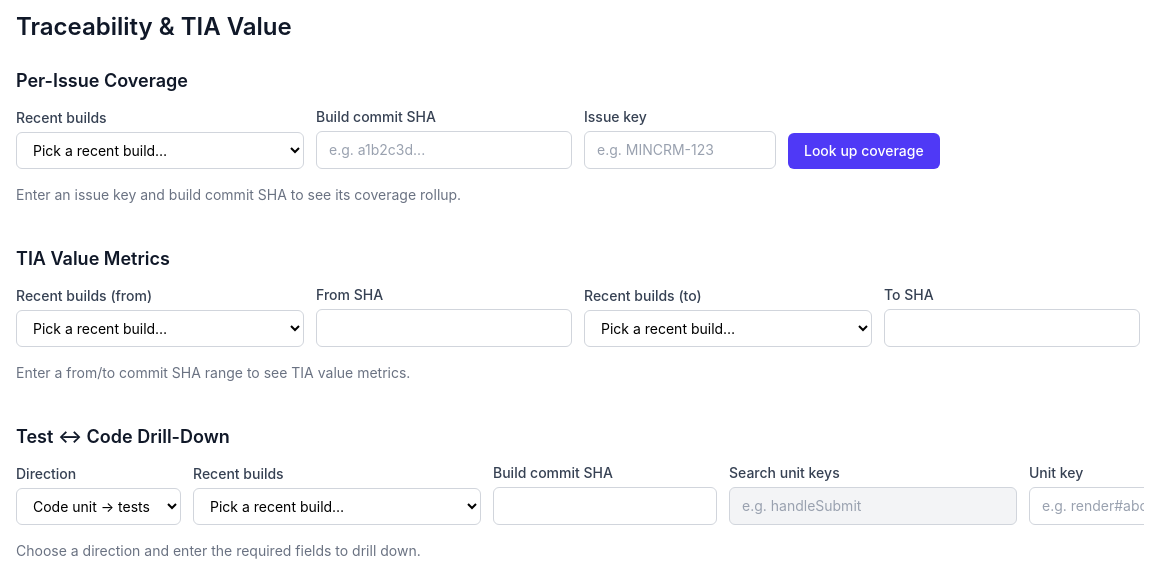
Scenario: TraceabilityPage — issue coverage › shows a loading state while the request is in flight
The width and height of the screenshot is (1156, 576).
In the field with test id "issue-key-input": {"x": 680, "y": 150} [584,131,776,169], type "MINCRM-1"
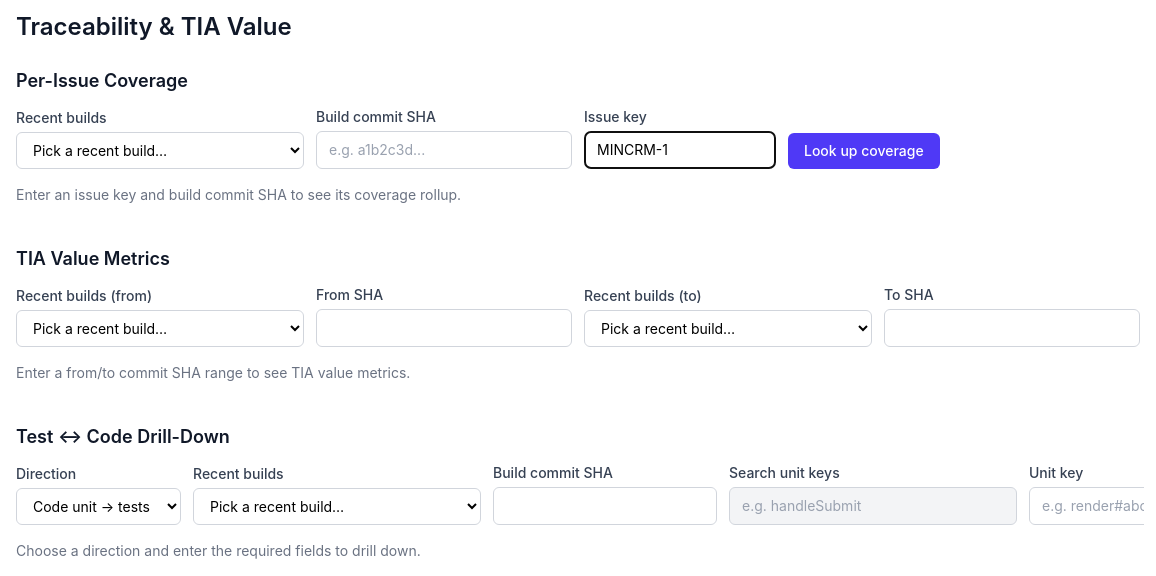
In the field with test id "issue-commit-sha-input": {"x": 444, "y": 150} [316,131,572,169], type "abc123"
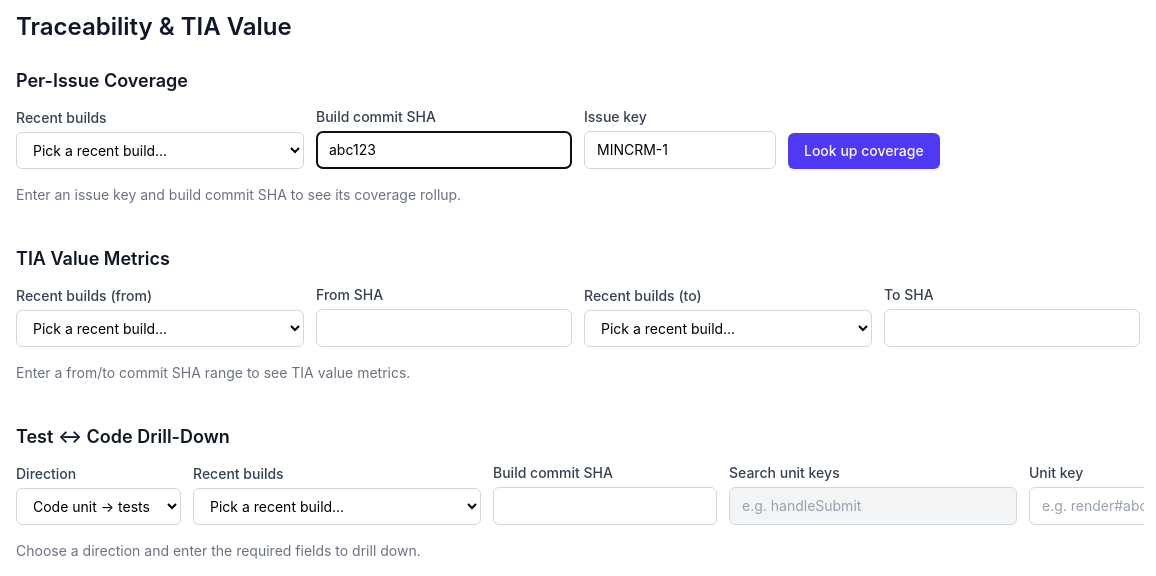
Click the button with test id "issue-coverage-submit-button": {"x": 864, "y": 151} [788,133,940,169]
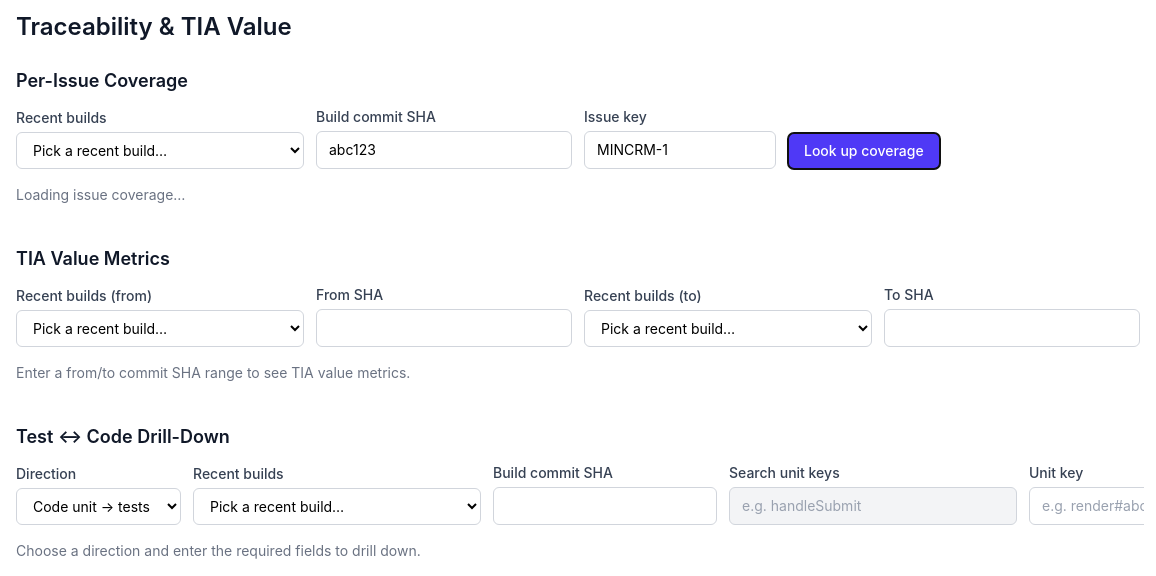
Expected: the text "Loading issue coverage…" is shown, [16,186,186,203]
